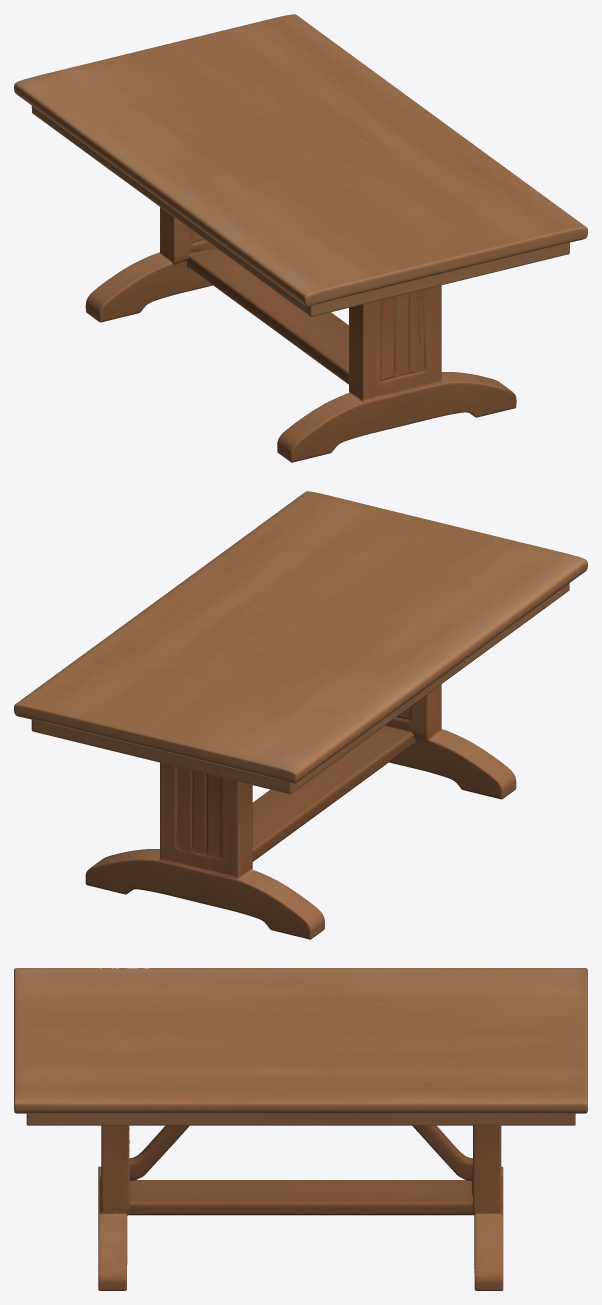
File: detailed_realistic_model_grandoaktable_10.glb
The picture shows the model from 3 angles, top to bottom: view 1: azimuth 30°, elevation 25°; view 2: azimuth 150°, elevation 25°; view 3: azimuth 270°, elevation 25°; orthographic projection.
Visible parts, largest first — view 1: tripo_node_c8c64267-1147-45ec-b432-6bd8ee0ac64c; view 2: tripo_node_c8c64267-1147-45ec-b432-6bd8ee0ac64c; view 3: tripo_node_c8c64267-1147-45ec-b432-6bd8ee0ac64c.
Boxes of the visible parts, left/top/right/bottom form: tripo_node_c8c64267-1147-45ec-b432-6bd8ee0ac64c: left=14, top=14, right=587, bottom=462; tripo_node_c8c64267-1147-45ec-b432-6bd8ee0ac64c: left=14, top=491, right=587, bottom=939; tripo_node_c8c64267-1147-45ec-b432-6bd8ee0ac64c: left=14, top=968, right=587, bottom=1290.
Size of the model in its own units: 0.5616 by 0.3925 by 1.
Materials: 1 (1 with a texture image).
